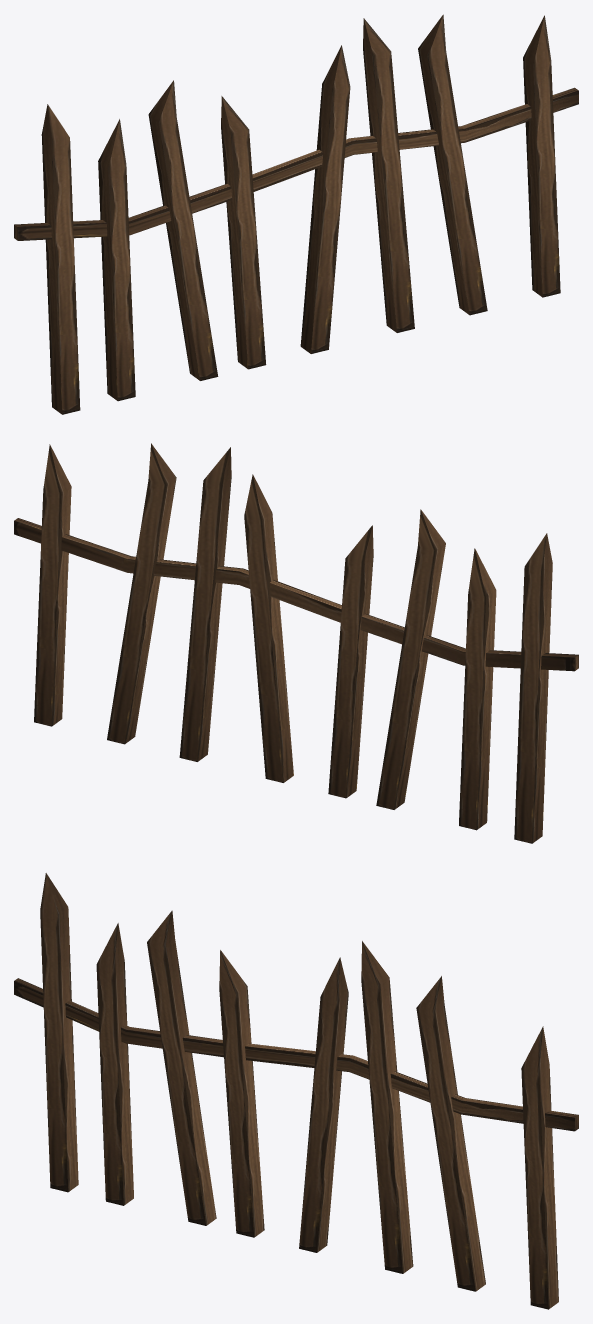
Rendered from Fence_02.FBX.
The picture shows the model from 3 angles, top to bottom: view 1: azimuth 30°, elevation 25°; view 2: azimuth 150°, elevation 25°; view 3: azimuth 330°, elevation 25°; orthographic projection.
Visible parts, largest first — view 1: Fence_02; view 2: Fence_02; view 3: Fence_02.
Boxes of the visible parts, x1=… form: Fence_02: x1=14, y1=14, x2=578, y2=414; Fence_02: x1=14, y1=443, x2=578, y2=843; Fence_02: x1=14, y1=873, x2=578, y2=1309.
Bounding box in the file's own units: 1.87 × 0.0597 × 1.01.
